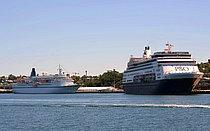Ship: (118, 38, 209, 100), (8, 62, 85, 98)
